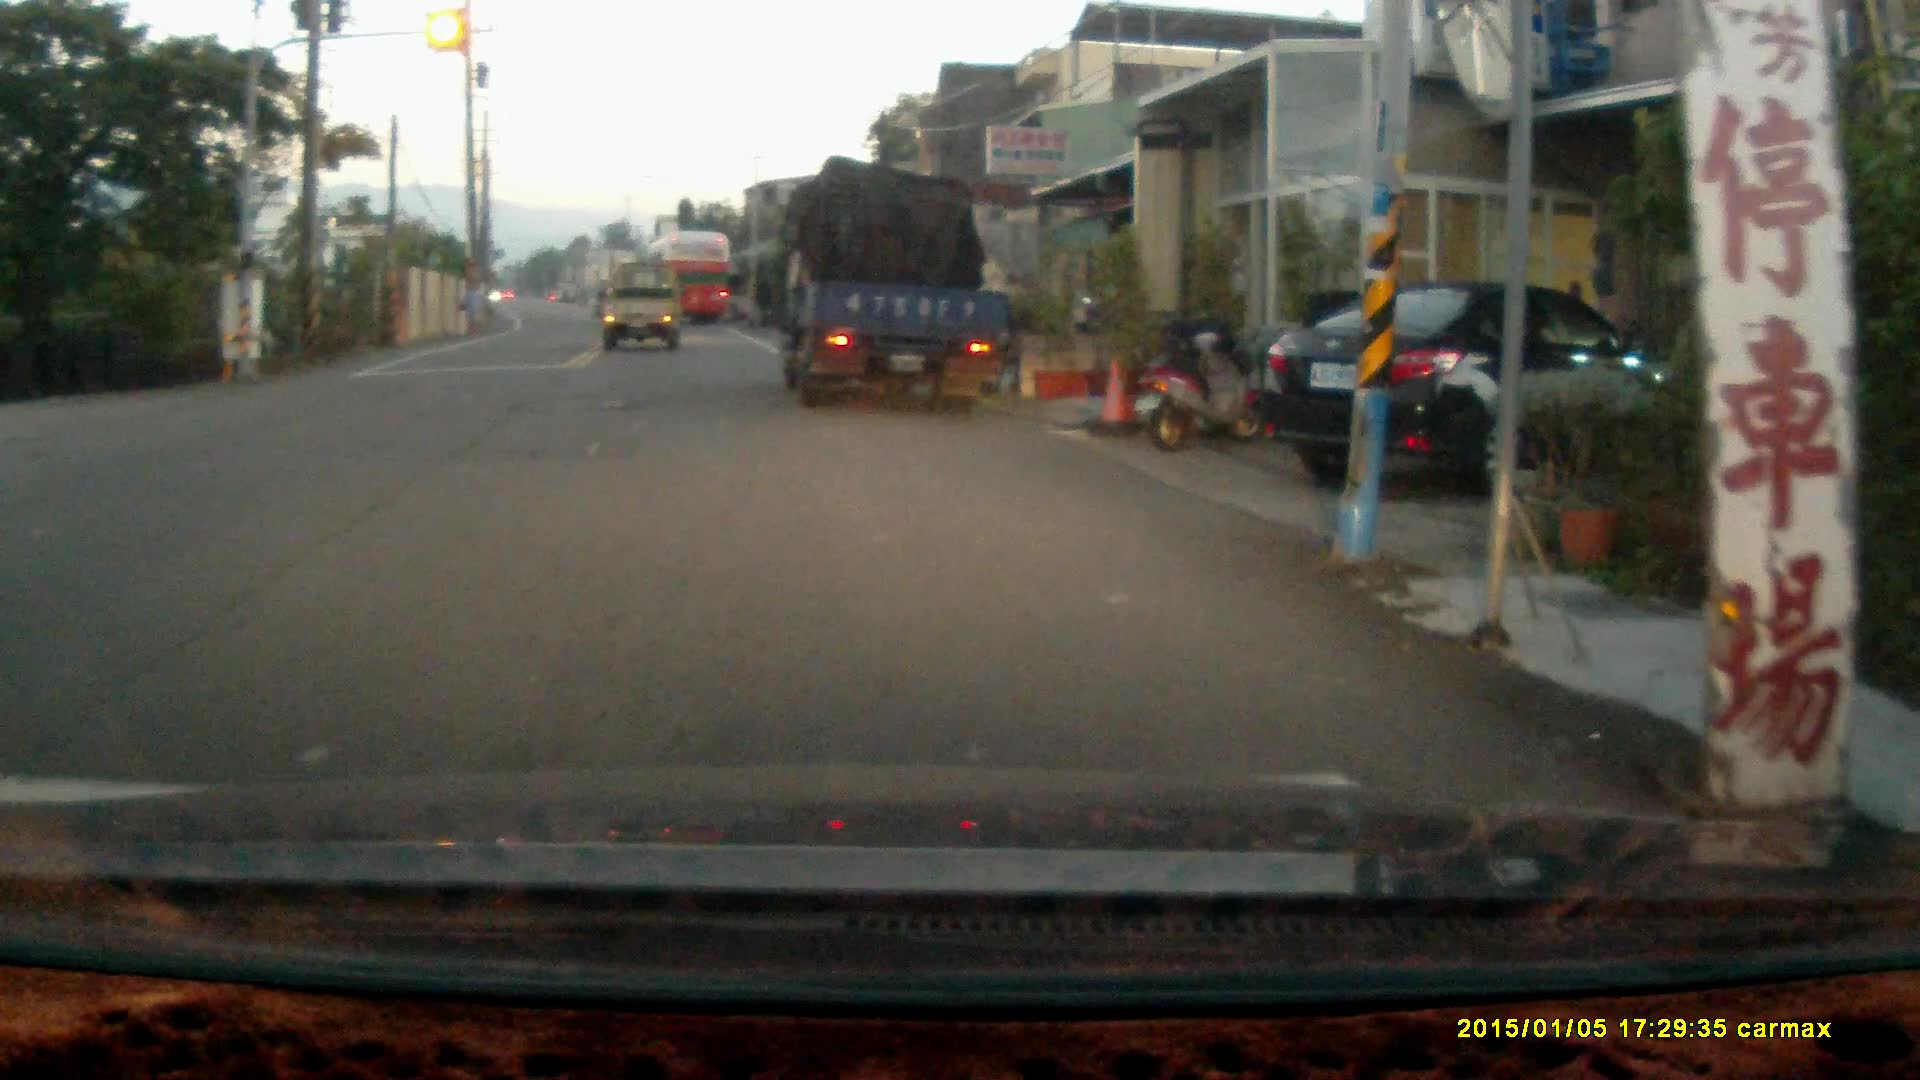vehicle: (1251, 280, 1685, 495), (764, 167, 1011, 407), (647, 235, 741, 336), (601, 270, 680, 353)
